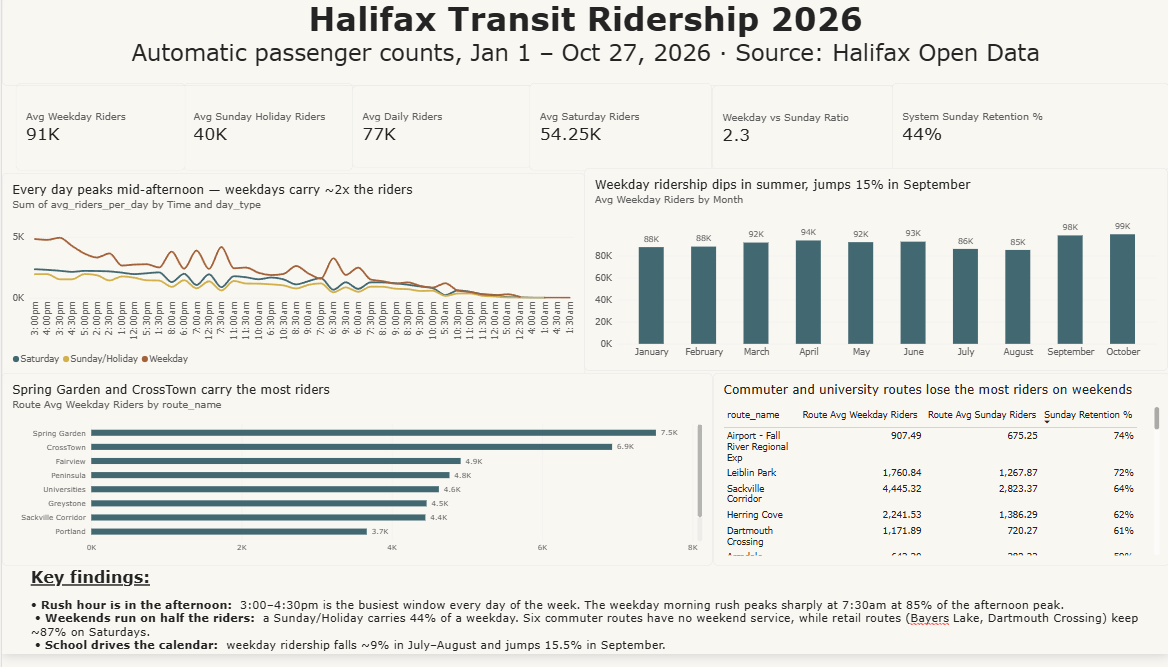

This screenshot's page, from the dashboard's own definition file:
{"tool":"powerbi","page":{"name":"Page 1","canvas":[1920,1080],"ordinal":0},"visuals":[{"type":"cardVisual","fields":{"Data":["v_daily_ridership.Avg Sunday Holiday Riders"]},"box":[298.5,140,279.9,144.1],"z":0},{"type":"cardVisual","fields":{"Data":["v_daily_ridership.Avg Weekday Riders"]},"box":[22.6,140,279.9,144.1],"z":1000},{"type":"cardVisual","fields":{"Data":["v_daily_ridership.Avg Daily Riders"]},"box":[576.3,144.1,296.4,135.8],"z":2000},{"type":"textbox","box":[0,0,1920.4,144.1],"z":3000},{"type":"cardVisual","fields":{"Data":["v_daily_ridership.Avg Saturday Riders"]},"box":[868.6,140,300.5,144.1],"z":4000},{"type":"cardVisual","fields":{"Data":["v_daily_ridership.Weekday vs Sunday Ratio"]},"box":[1167.1,144.1,300.5,140],"z":5000},{"type":"cardVisual","fields":{"Data":["v_daily_ridership.System Sunday Retention %"]},"box":[1463.5,140,456.9,144.1],"z":6000},{"type":"lineChart","title":"Every day peaks mid-afternoon — weekdays carry ~2x the riders","fields":{"Category":["v_hourly_profile.Time"],"Series":["v_hourly_profile.day_type"],"Y":["Sum(v_hourly_profile.avg_riders_per_day)"]},"box":[0,288,959.2,337.6],"z":7000},{"type":"columnChart","title":"Weekday ridership dips in summer, jumps 15% in September","fields":{"Category":["v_daily_ridership.month.Variation.Date Hierarchy.Month"],"Y":["v_daily_ridership.Avg Weekday Riders"]},"box":[959.2,279.9,959.2,333.4],"z":8000},{"type":"clusteredBarChart","title":"Spring Garden and CrossTown carry the most riders","fields":{"Category":["v_route_daily.route_name"],"Y":["v_route_daily.Route Avg Weekday Riders"]},"box":[0,617.5,1169.1,317],"z":9000},{"type":"tableEx","title":"Commuter and university routes lose the most riders on weekends","fields":{"Values":["v_route_daily.route_name","v_route_daily.Route Avg Weekday Riders","v_route_daily.Route Avg Sunday Riders","v_route_daily.Sunday Retention %"]},"box":[1169.1,617.5,751.3,317],"z":10000},{"type":"textbox","box":[48,936,1824,144],"z":11000}]}

Visuals, with their boxes in screenshot pixels (x1, y1, x2, y2), scaled from the page's 1920x1080 canvas onto the 1168x667 screenshot:
cardVisual - v_daily_ridership.Avg Sunday Holiday Riders: 182/86/352/175
cardVisual - v_daily_ridership.Avg Weekday Riders: 14/86/184/175
cardVisual - v_daily_ridership.Avg Daily Riders: 351/89/531/173
textbox: 0/0/1167/89
cardVisual - v_daily_ridership.Avg Saturday Riders: 528/86/711/175
cardVisual - v_daily_ridership.Weekday vs Sunday Ratio: 710/89/893/175
cardVisual - v_daily_ridership.System Sunday Retention %: 890/86/1167/175
"Every day peaks mid-afternoon — weekdays carry ~2x the riders" lineChart: 0/178/584/386
"Weekday ridership dips in summer, jumps 15% in September" columnChart: 584/173/1167/379
"Spring Garden and CrossTown carry the most riders" clusteredBarChart: 0/381/711/577
"Commuter and university routes lose the most riders on weekends" tableEx: 711/381/1167/577
textbox: 29/578/1139/666
